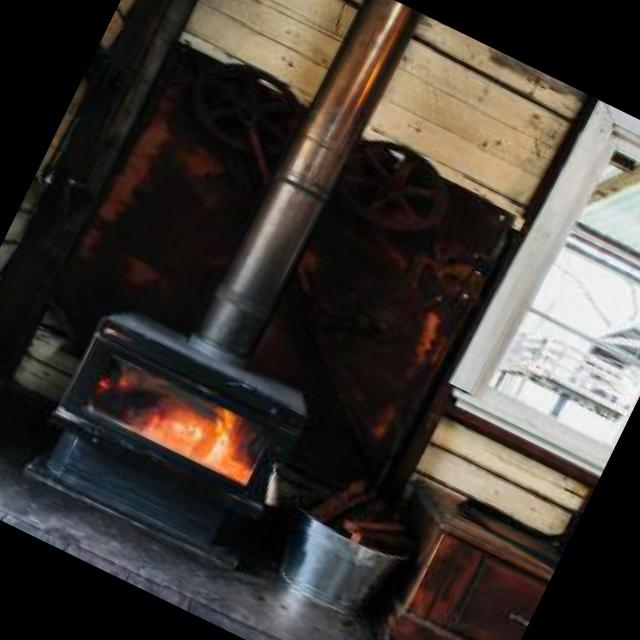fire: (105, 354, 282, 493)
